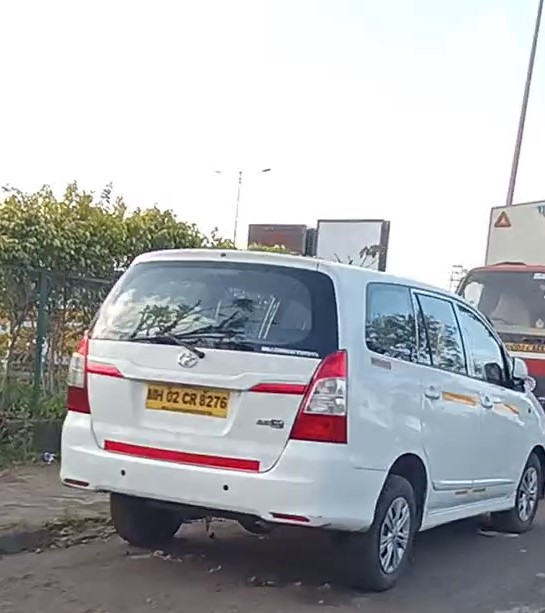MH02CR8276: (147, 382, 231, 417)
